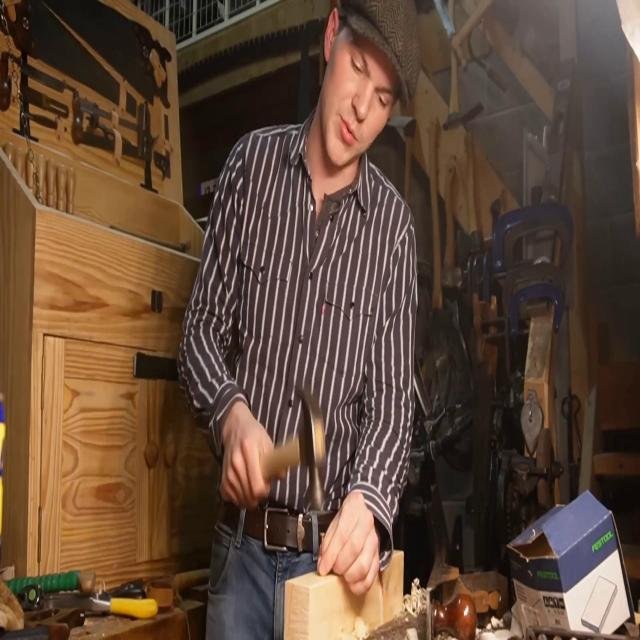hammer: (261, 387, 325, 509)
